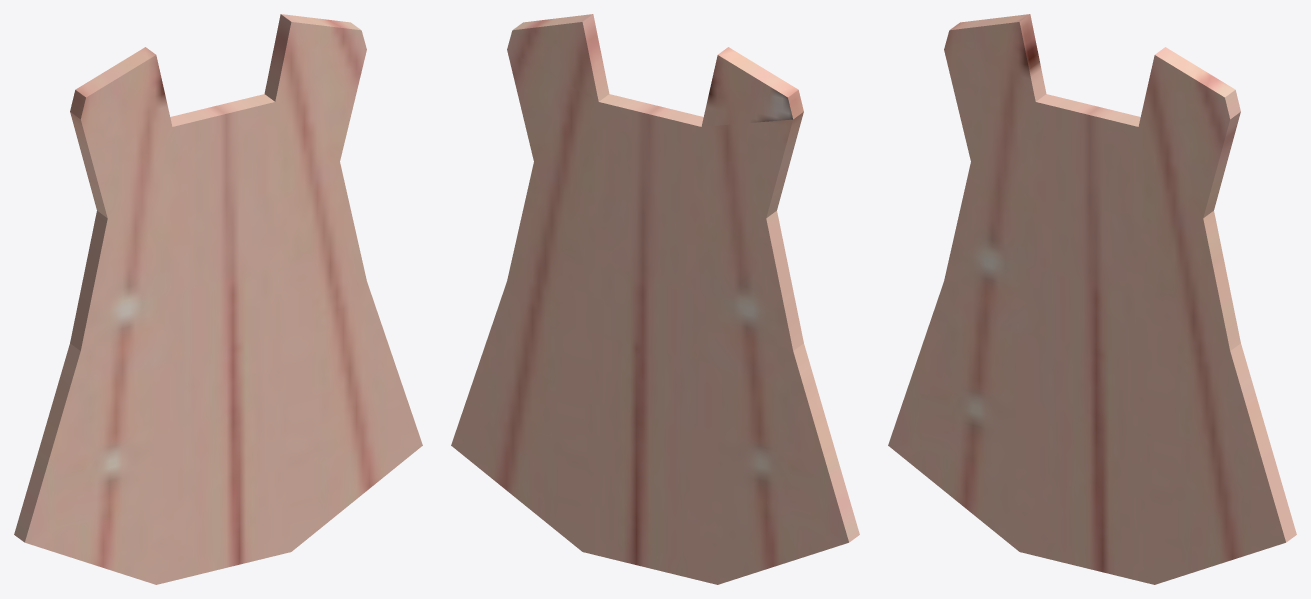
Rendered from cloth3.fbx.
The picture shows the model from 3 angles, left to right: view 1: azimuth 30°, elevation 25°; view 2: azimuth 150°, elevation 25°; view 3: azimuth 330°, elevation 25°; orthographic projection.
Visible parts, largest first — view 1: Plane.082; view 2: Plane.082; view 3: Plane.082.
Boxes of the visible parts, <box> form: Plane.082: <box>14,14,422,584</box>; Plane.082: <box>451,14,859,584</box>; Plane.082: <box>888,14,1296,584</box>.
Bounding box in the file's own units: 27.65 × 35.18 × 1.29.
1 material, 1 textured.
